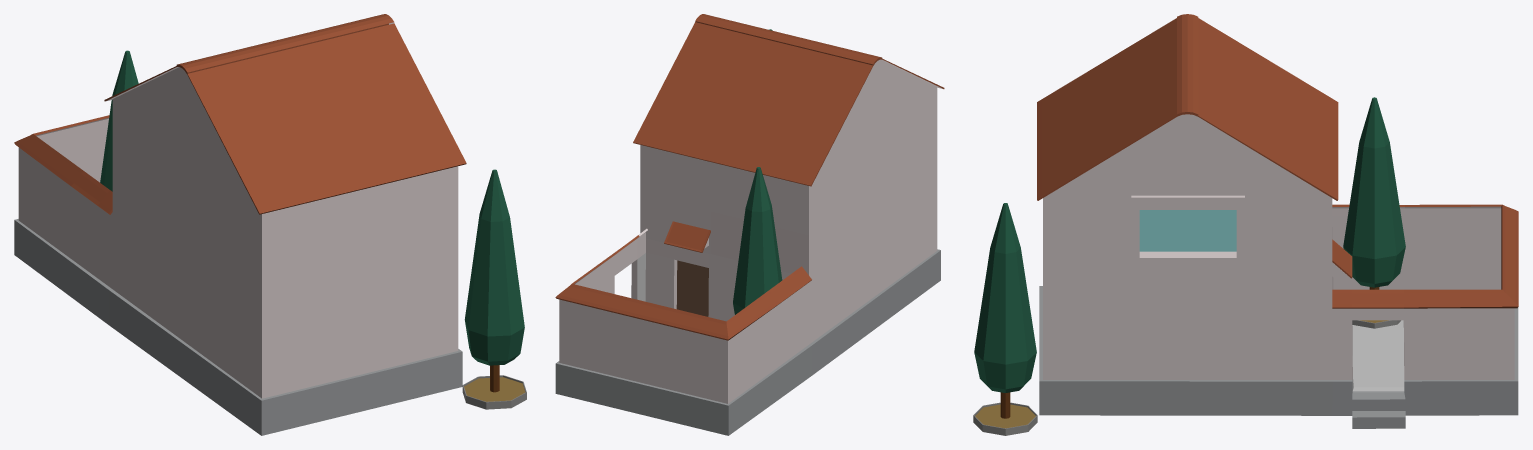
File: ImprovedOikos.fbx
3 views of the same model, side by side, from view 1: azimuth 30°, elevation 25°; view 2: azimuth 150°, elevation 25°; view 3: azimuth 270°, elevation 25° (orthographic). The views are drawn at different scales.
Visible parts, largest first — view 1: ImprovedOikos, Tree, Tree.002; view 2: ImprovedOikos, Tree.002; view 3: ImprovedOikos, Tree, Tree.002.
Boxes of the visible parts, x1,y1,x2,y2 form: ImprovedOikos: (14,14,466,435); Tree: (462,169,526,409); Tree.002: (100,50,138,191); ImprovedOikos: (555,14,944,435); Tree.002: (733,167,782,314); ImprovedOikos: (1037,14,1518,428); Tree: (973,203,1037,435); Tree.002: (1343,97,1405,328).
Size of the model in its own units: 230 by 279 by 452.
